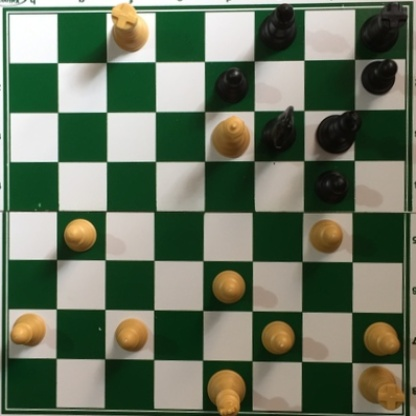black-bishop: (254, 1, 297, 53)
black-king: (313, 109, 361, 157)
black-knight: (258, 103, 293, 151)
black-pawn: (360, 57, 399, 95), (212, 66, 249, 105), (313, 169, 349, 204)
black-rook: (356, 1, 404, 57)
white-king: (201, 365, 246, 416)
white-pawn: (7, 308, 49, 347), (360, 321, 400, 359), (259, 319, 297, 357), (113, 315, 150, 354), (308, 216, 345, 255), (61, 217, 99, 254), (211, 268, 247, 306)
white-queen: (209, 115, 251, 160)
white-rook: (354, 361, 406, 411), (105, 1, 148, 53)
